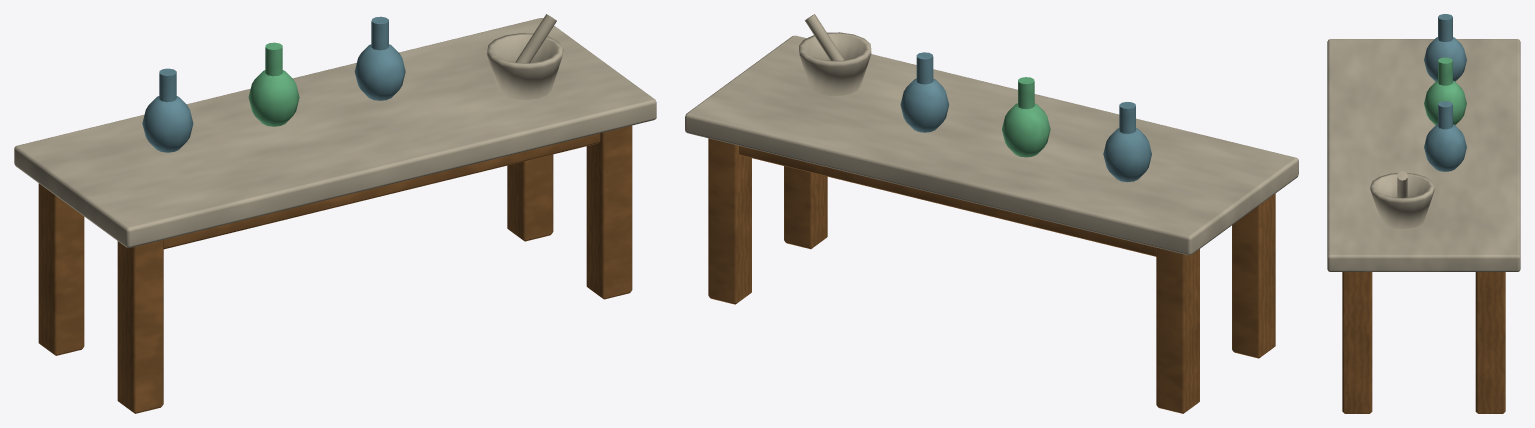
The model's file is Furn_BrewTable.fbx.
3 views of the same model, side by side, from view 1: azimuth 30°, elevation 25°; view 2: azimuth 150°, elevation 25°; view 3: azimuth 270°, elevation 25° (orthographic). The views are drawn at different scales.
Parts seen in each view (by area): view 1: Furn_BrewTable_Mesh; view 2: Furn_BrewTable_Mesh; view 3: Furn_BrewTable_Mesh.
Part boxes in pixels (bbox=[...]): Furn_BrewTable_Mesh: bbox=[14, 14, 656, 413]; Furn_BrewTable_Mesh: bbox=[685, 14, 1298, 413]; Furn_BrewTable_Mesh: bbox=[1327, 14, 1520, 413].
Bounding box in the file's own units: 2.4 × 1.19 × 0.9.
4 materials, 4 textured.
